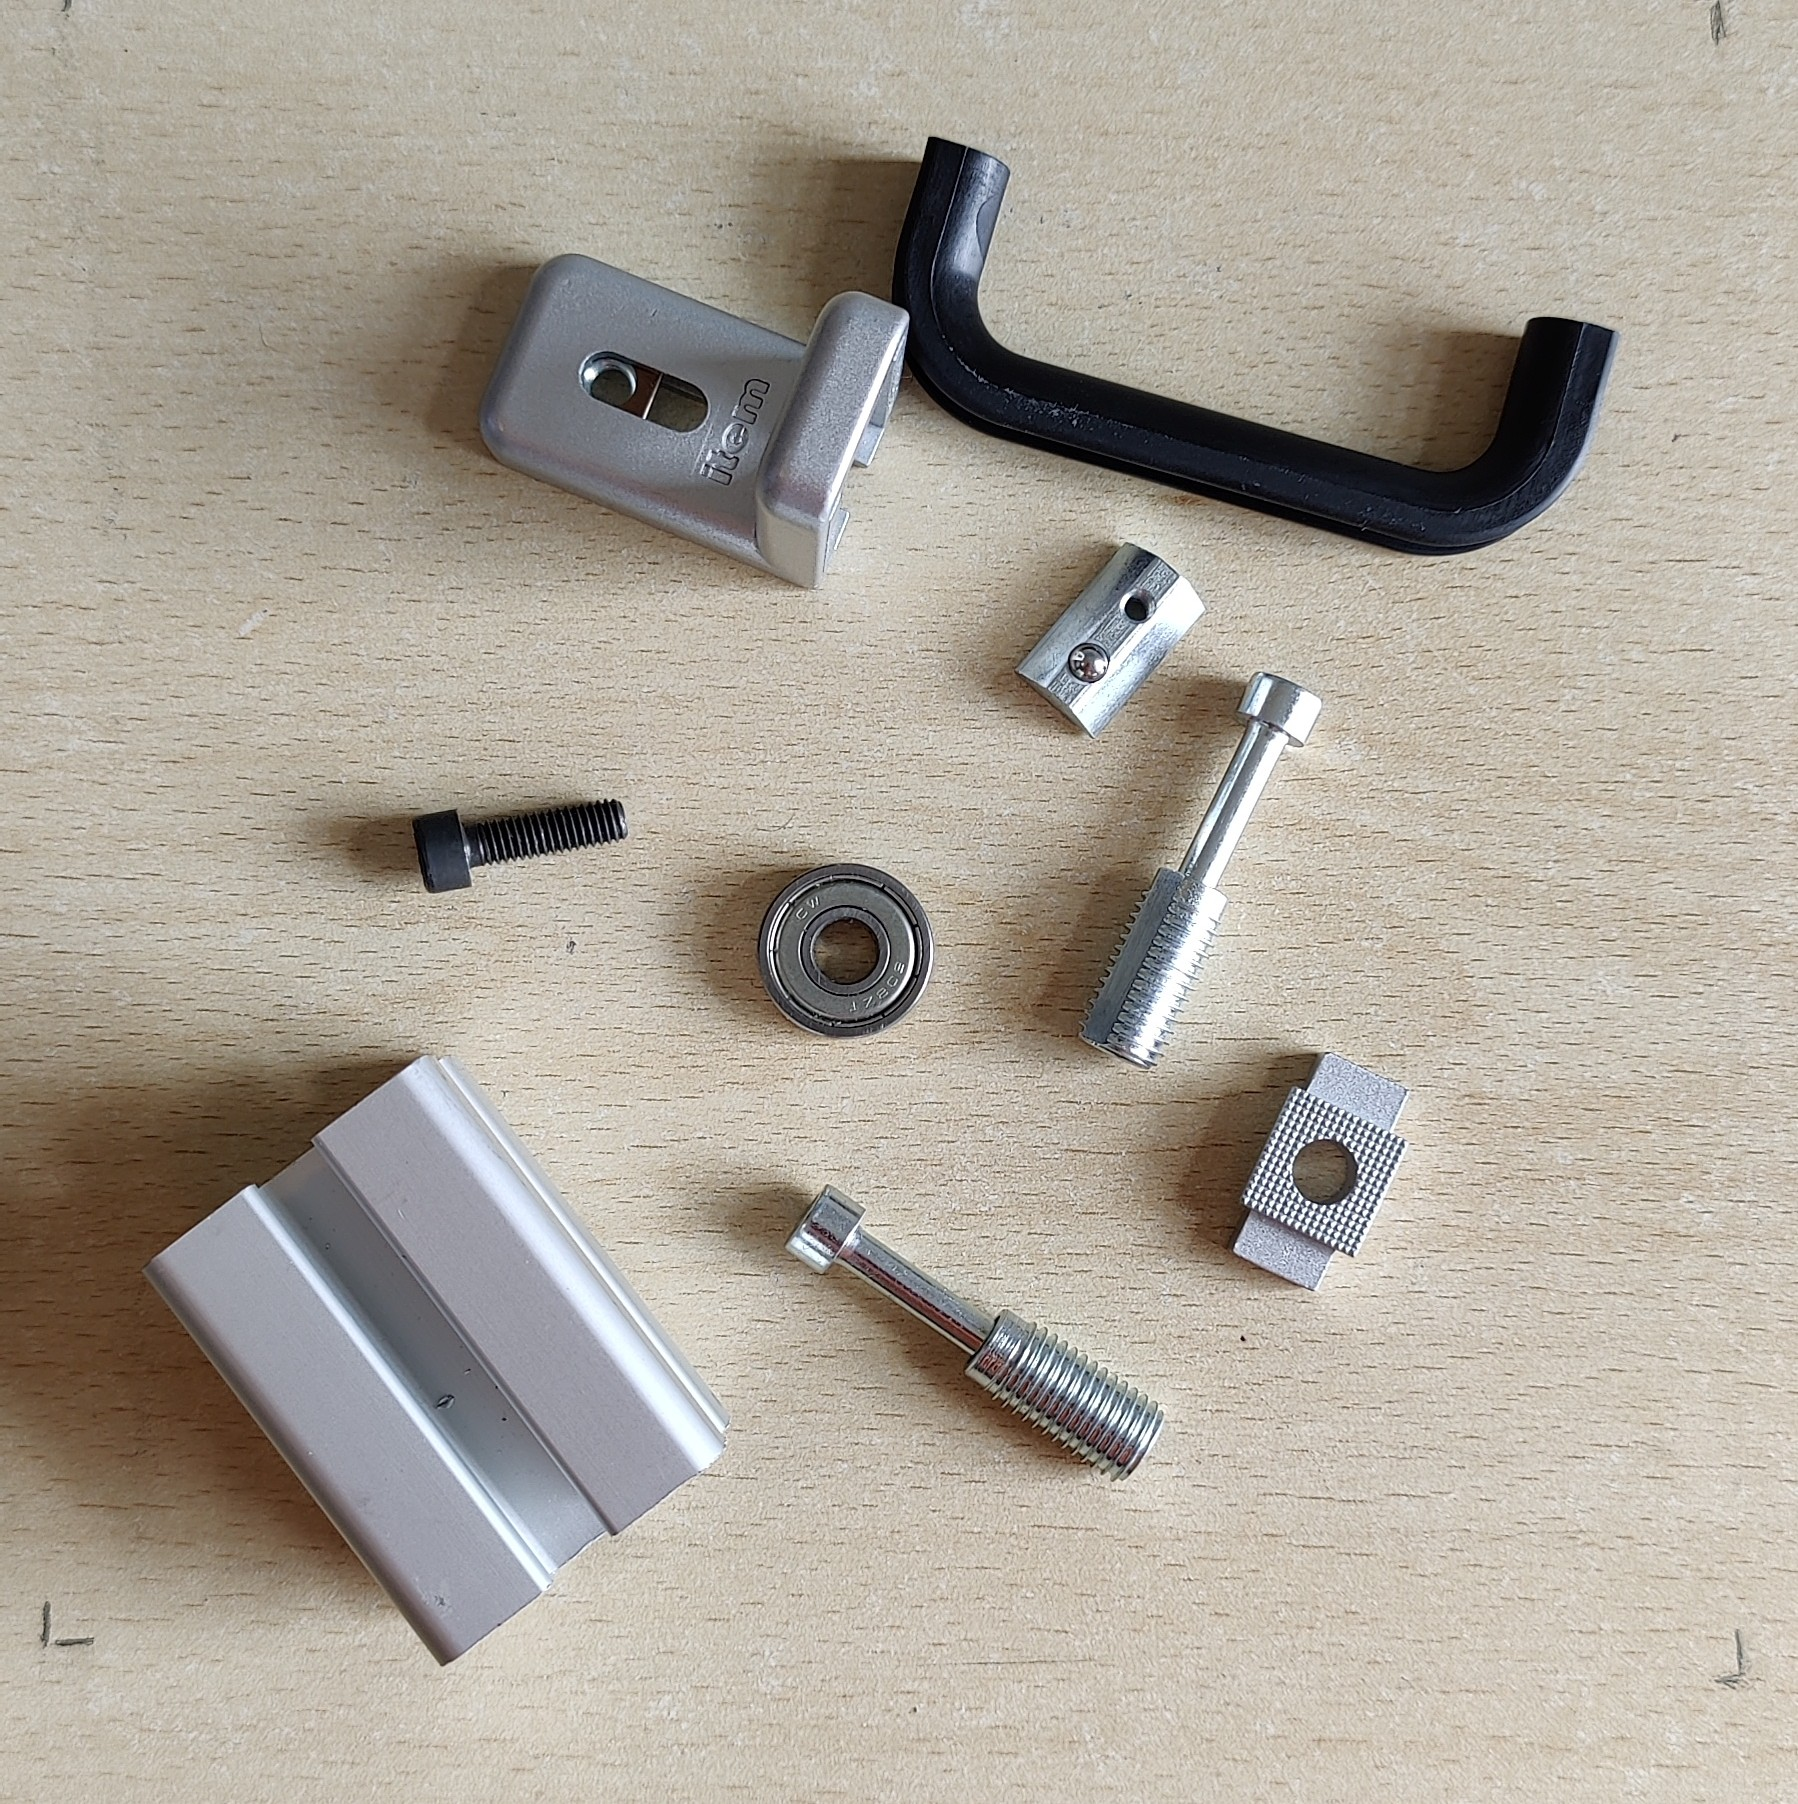Aluminium Extension: (133, 1052, 738, 1671)
Ball Bearing: (756, 859, 937, 1040)
Multiwinkel: (474, 249, 911, 594)
Pull Handle: (887, 132, 1622, 560)
Shoulder Socket Head Cap Screw: (780, 1182, 1166, 1486), (1077, 668, 1325, 1075)
Socket Head Cap Screw: (412, 793, 632, 895)
T Nut Square: (1228, 1048, 1411, 1292)
T Spring Nut: (1011, 540, 1207, 741)
